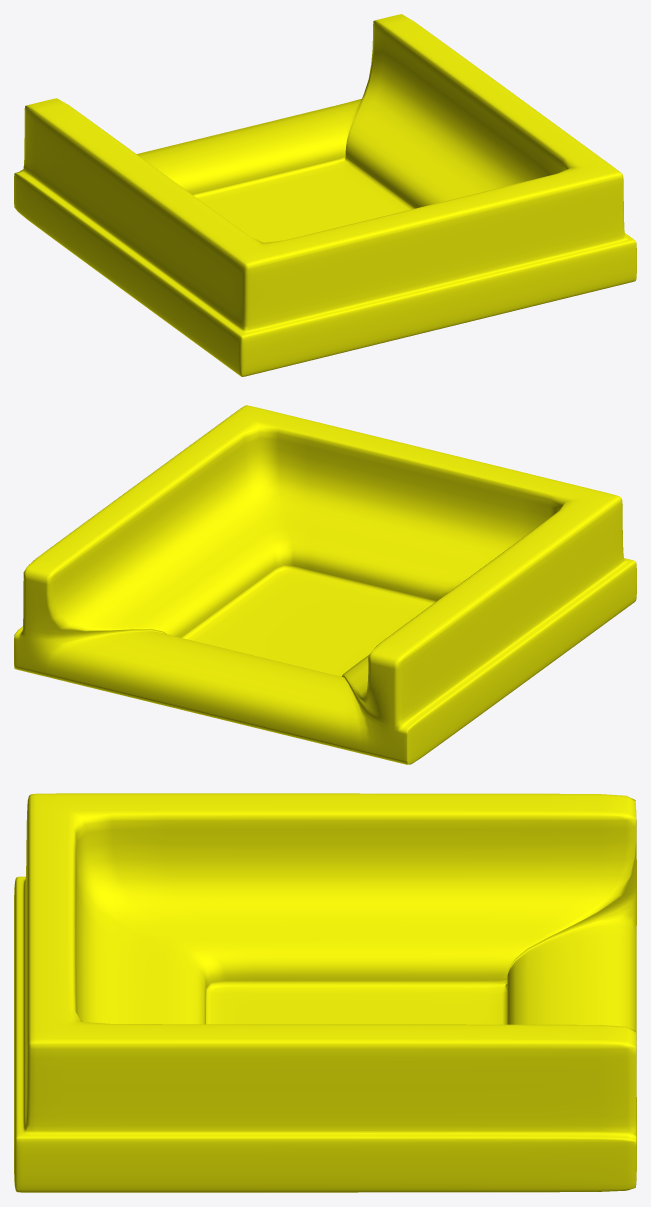
The picture shows the model from 3 angles, top to bottom: view 1: azimuth 30°, elevation 25°; view 2: azimuth 150°, elevation 25°; view 3: azimuth 270°, elevation 25°; orthographic projection. The views are drawn at different scales.
Visible parts, largest first — view 1: pCube368; view 2: pCube368; view 3: pCube368.
Boxes of the visible parts, x1,y1,x2,y2 form: pCube368: (14,14,636,376); pCube368: (14,405,636,764); pCube368: (14,793,636,1192).
Size of the model in its own units: 0.9997 by 0.2597 by 0.9998.
